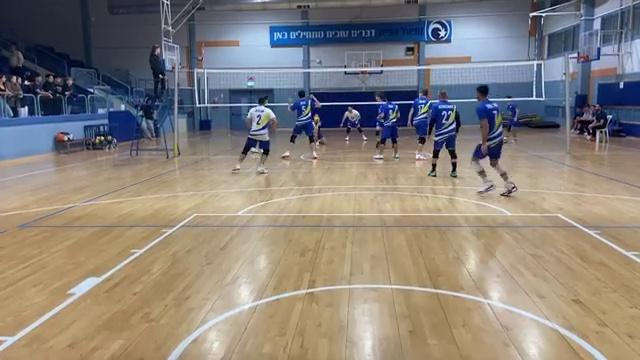ball: (314, 113, 321, 127)
